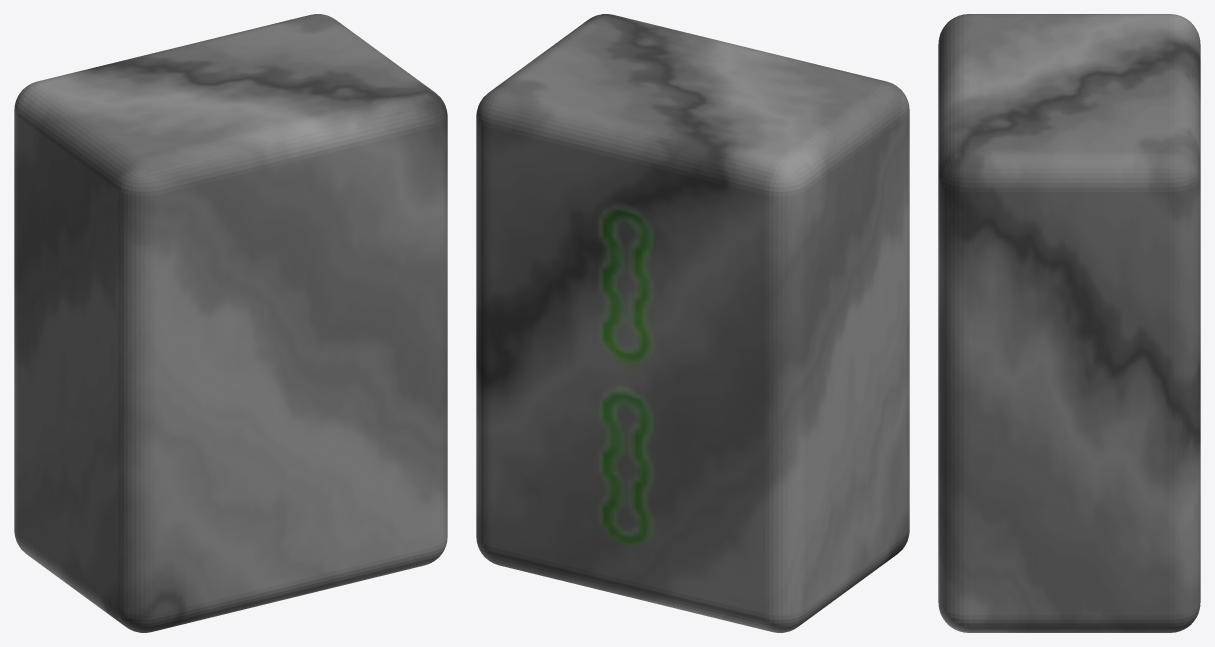
The model's file is tiao2.fbx.
3 views of the same model, side by side, from view 1: azimuth 30°, elevation 25°; view 2: azimuth 150°, elevation 25°; view 3: azimuth 270°, elevation 25° (orthographic).
Parts seen in each view (by area): view 1: tiao2; view 2: tiao2; view 3: tiao2.
Boxes of the visible parts, x1,y1,x2,y2 form: tiao2: [14, 14, 447, 632]; tiao2: [476, 14, 909, 632]; tiao2: [938, 14, 1200, 632].
Bounding box in the file's own units: 100 × 139 × 69.
Materials: 1 (1 with a texture image).
